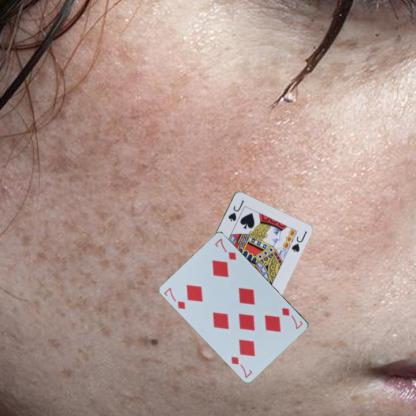7d: (279, 305, 305, 331), (162, 285, 187, 310)
Js: (226, 197, 246, 222)
